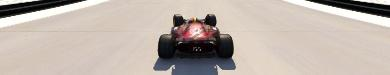Car: (157, 13, 233, 58)
curve: (0, 0, 389, 74)
